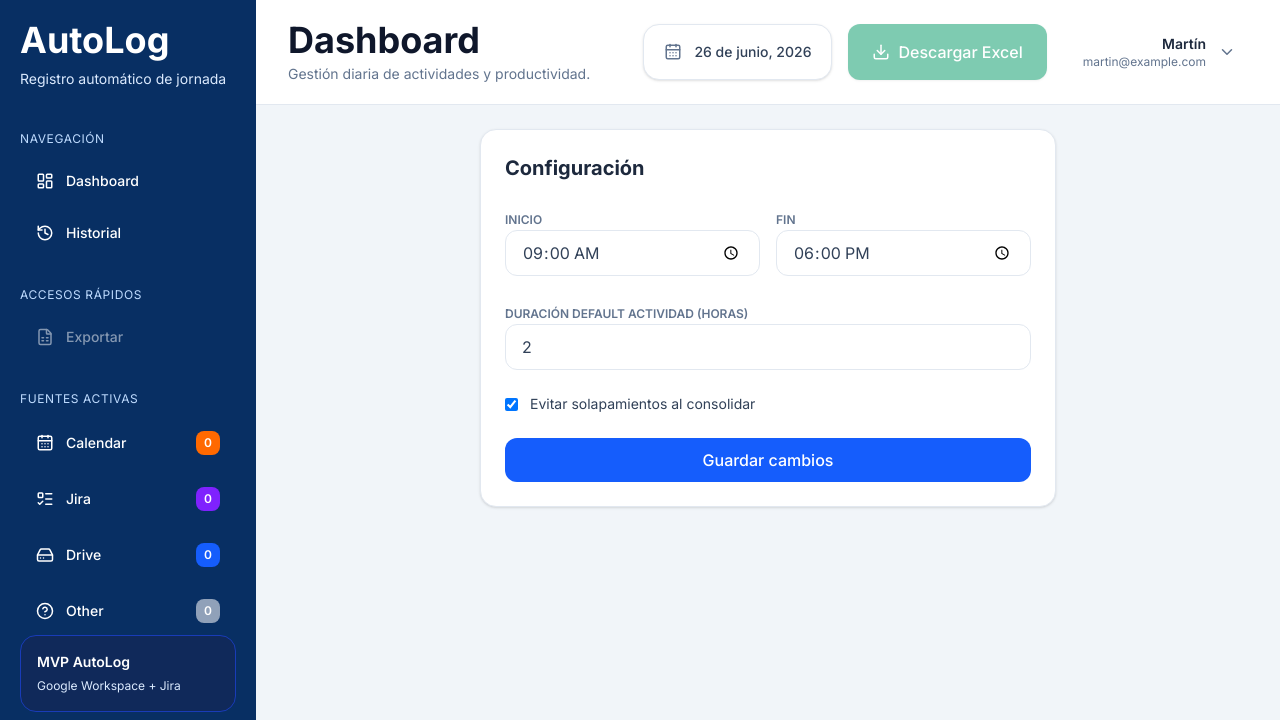
Test: Settings › alerts the user when saving fails
Expected: the heading "Configuración" is shown, [505,156,644,180]
Click the button "Guardar cambios".
click(768, 460)  # box [505,438,1031,482]
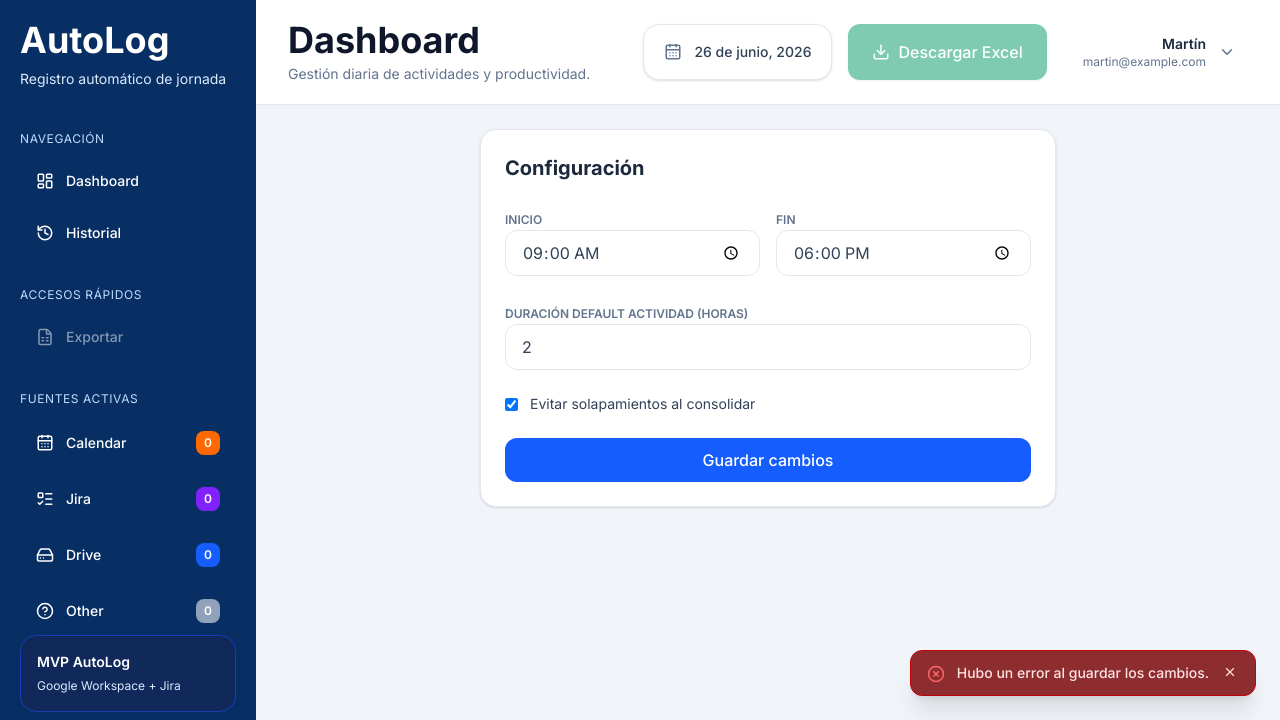
Result: the text "Hubo un error al guardar los cambios." is shown at [957,663,1209,683]
